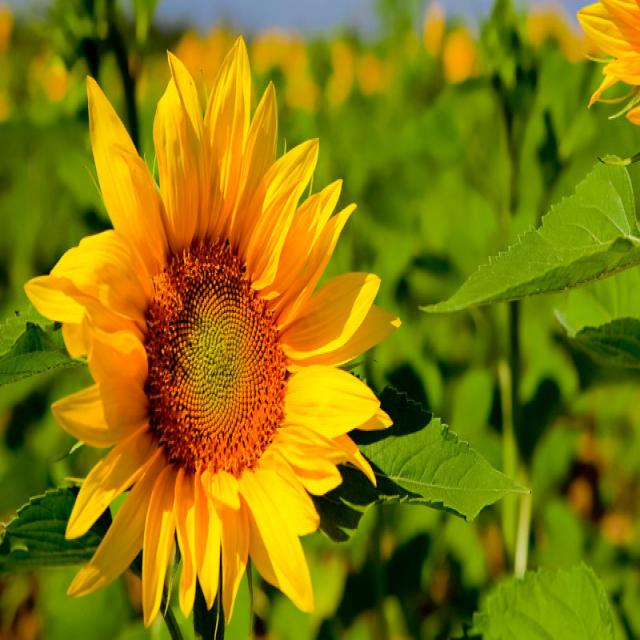sunflower: (19, 31, 404, 640)
